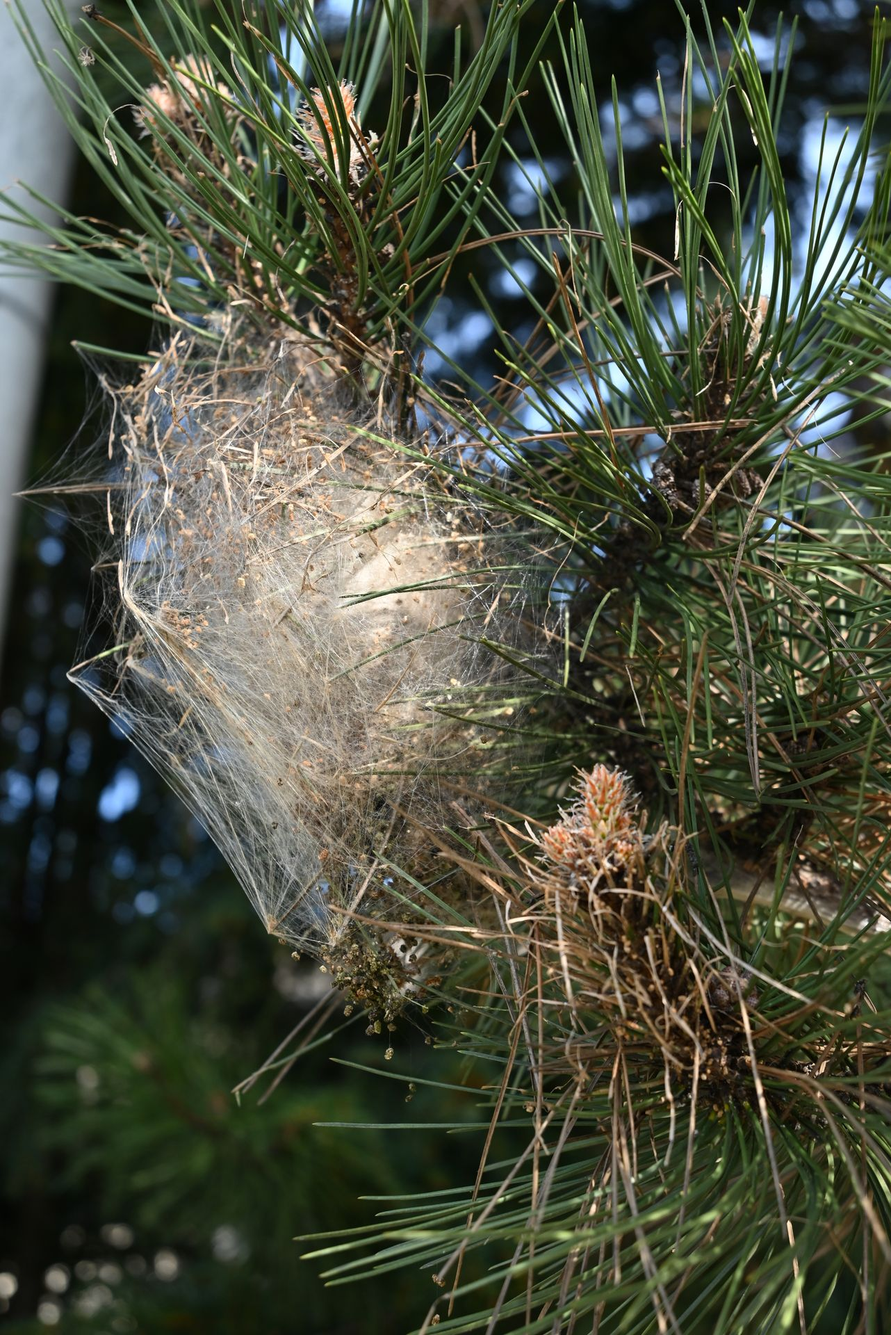thaumatopoea pityocampa jajno gnijezdo: (76, 324, 611, 1001)
